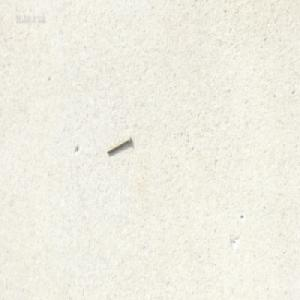Bolt: (105, 134, 130, 154)
